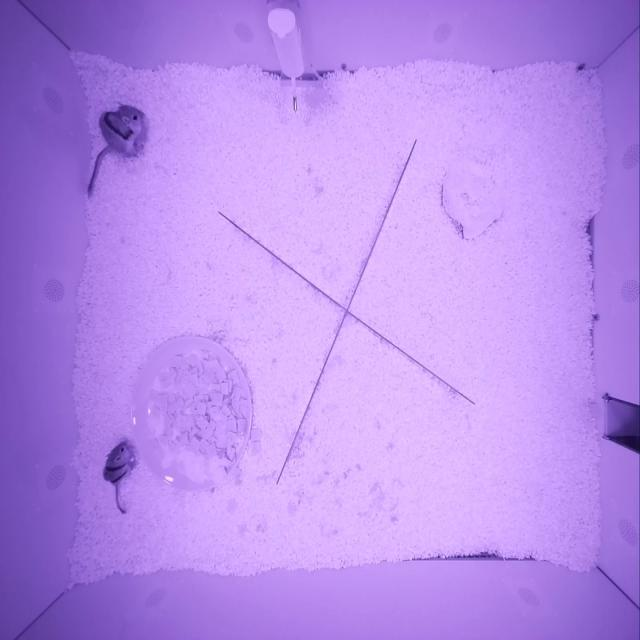adult_front: (99, 101, 149, 157)
pup_h_stripe: (103, 440, 131, 484)
